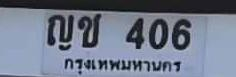0: (148, 18, 167, 48)
4: (125, 17, 143, 48)
6: (171, 18, 190, 49)
A10: (78, 13, 100, 47)
A13: (46, 14, 73, 46)
BKK: (60, 54, 182, 75)
